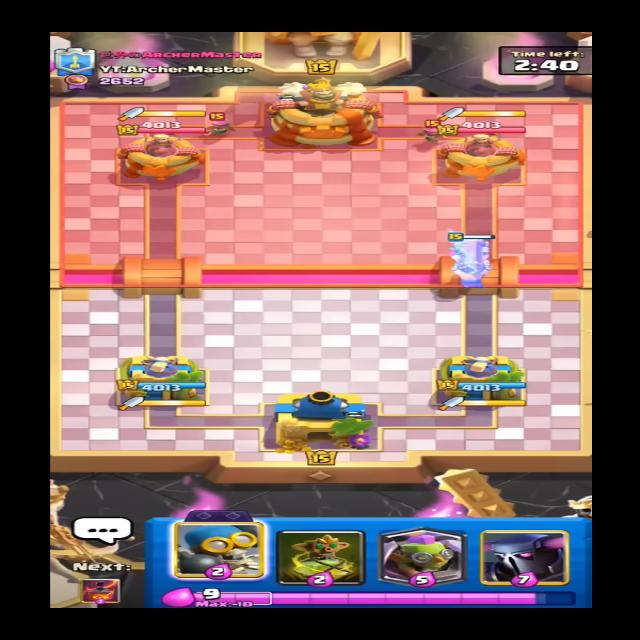archer: (202, 112, 246, 138), (415, 118, 453, 146)
